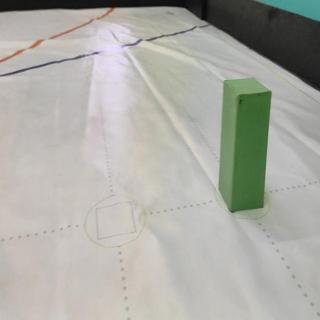greenbox: (219, 77, 272, 213)
